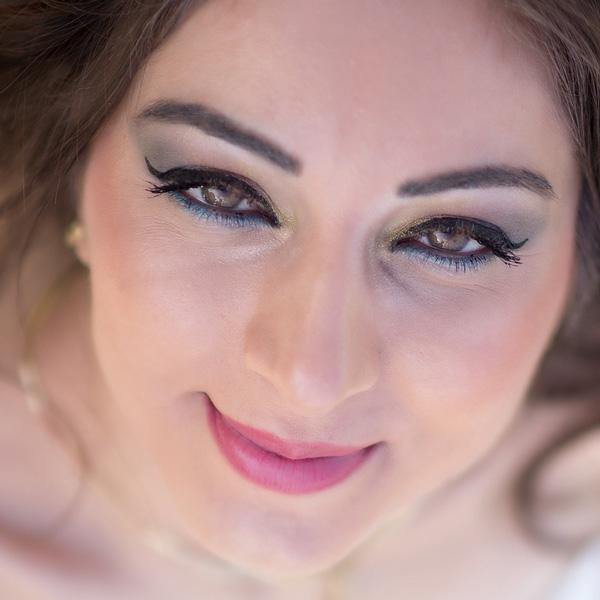Eyes: (142, 151, 288, 239), (385, 199, 518, 279)
